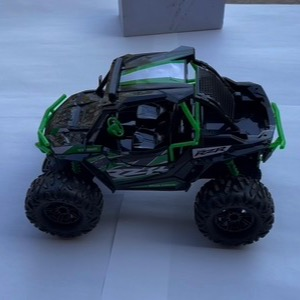polaris: (25, 46, 288, 251)
